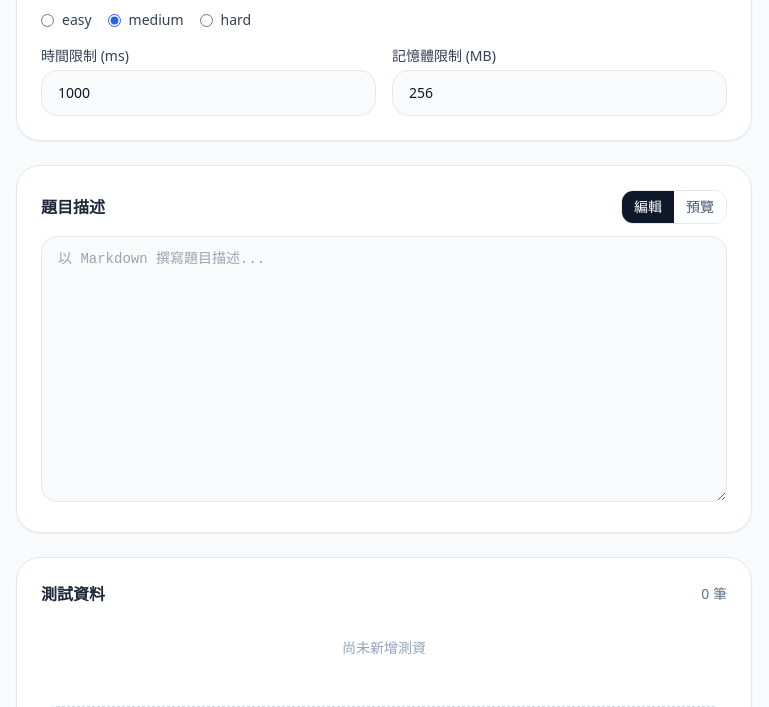
ProblemFormPage() › create mode › preview renders `inline code` as a <code> element without literal backticks
The image size is (769, 707).
(page scrolled)
Type "`abc`" into the text box with placeholder "以 Markdown 撰寫題目描述...".
click(384, 369); type("`abc`")  # box [41, 236, 727, 502]
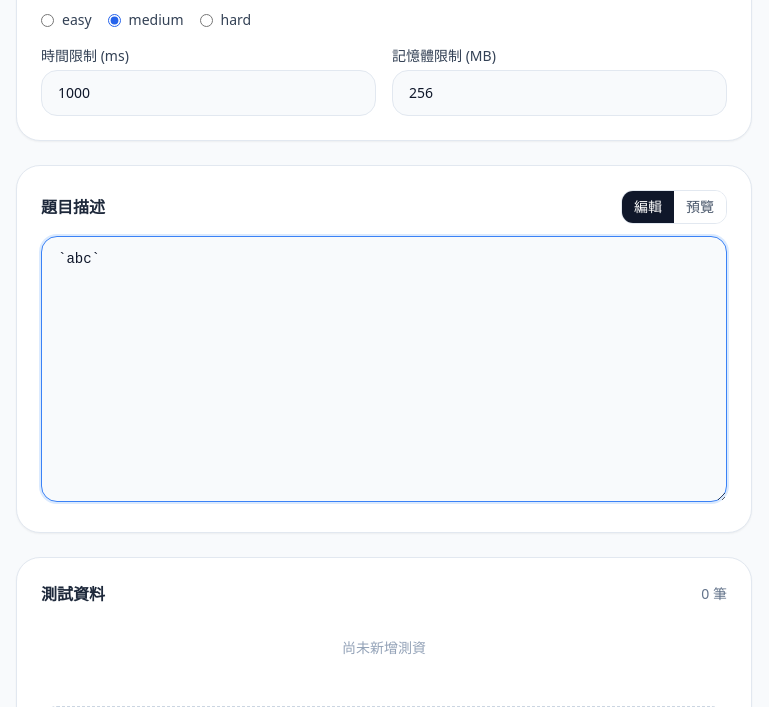
Click the button "預覽".
click(700, 207)  # box [674, 191, 726, 223]
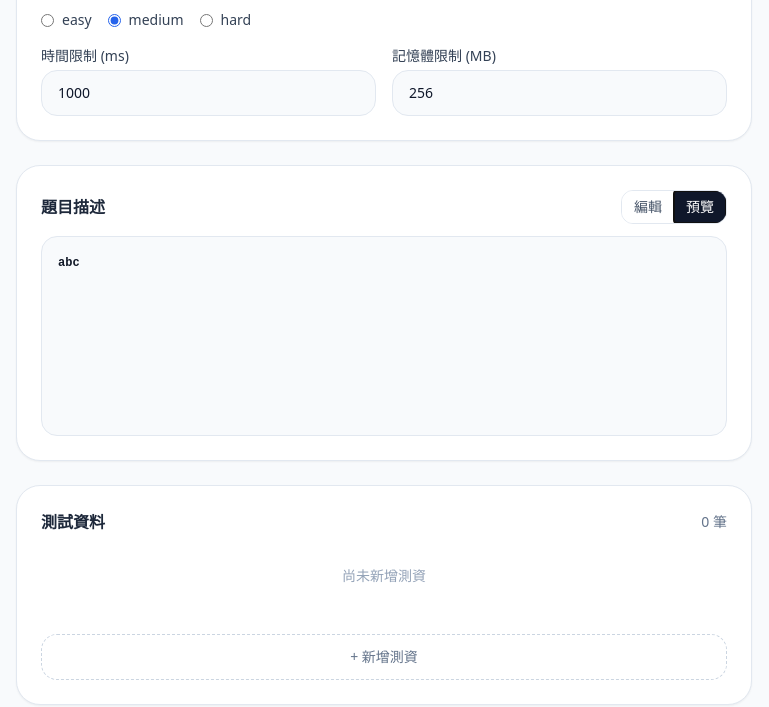
Expected: the text "`abc`" is not shown
Expected: the text "abc" is shown, [58, 256, 80, 270]
